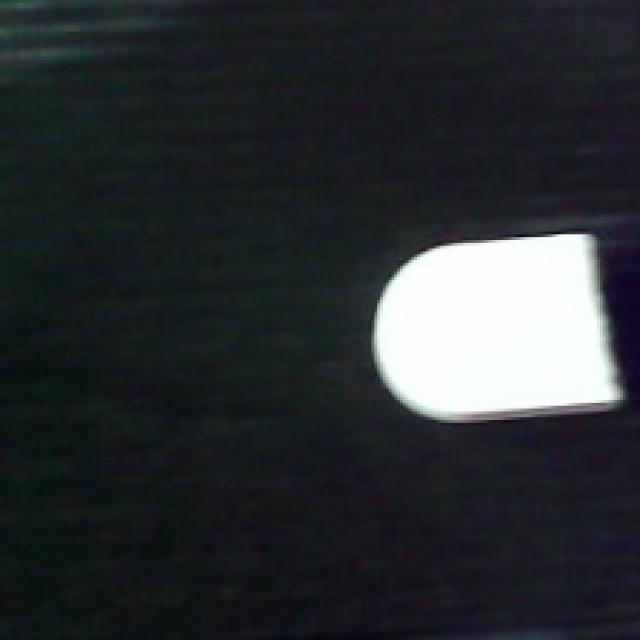defected: (363, 225, 634, 426)
